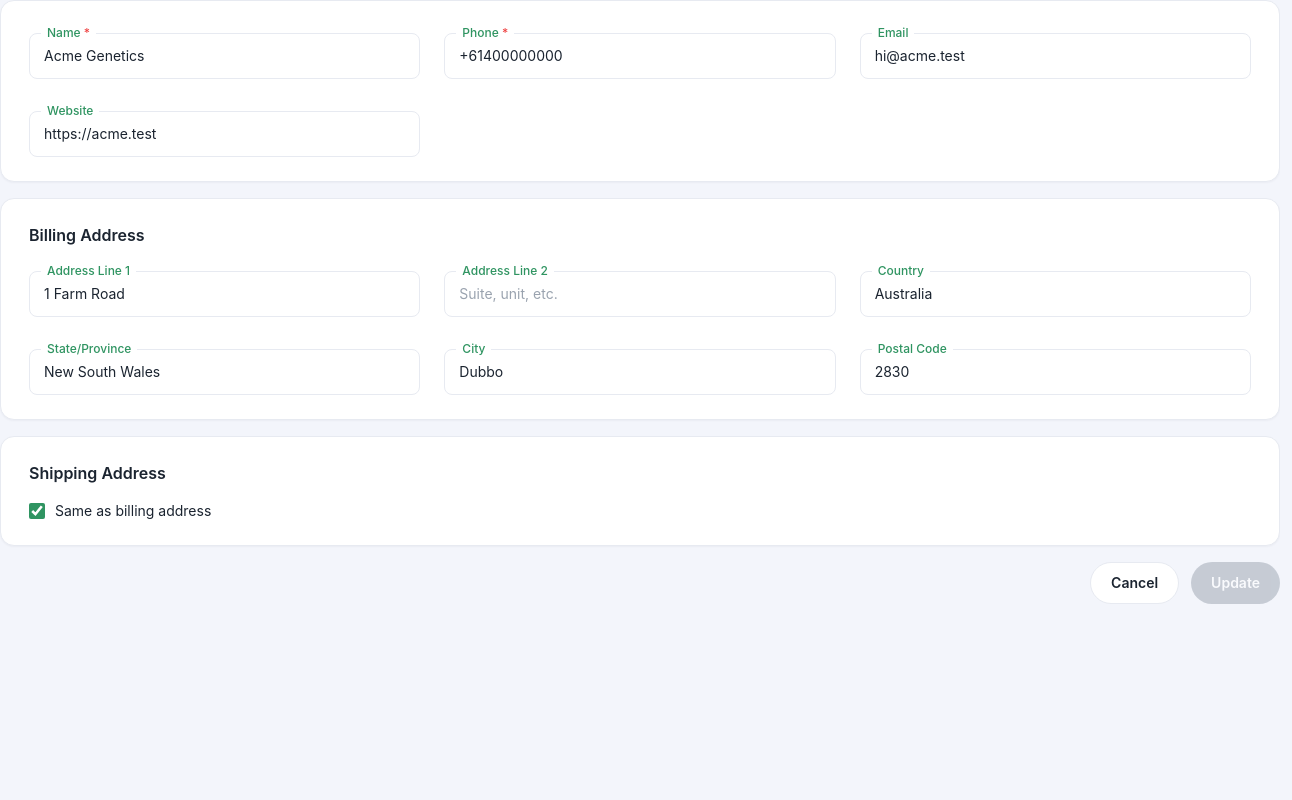
Test: CompanyForm (spec 2.8.1) › keeps the Update button disabled until something changes (spec 2.3.1.2)
The width and height of the screenshot is (1292, 800).
Check: the button "Update" is disabled, box [1191,562,1280,604]
Type " Pty Ltd" into the field labelled "Name *".
click(225, 56); type(" Pty Ltd")  # box [29,33,420,79]
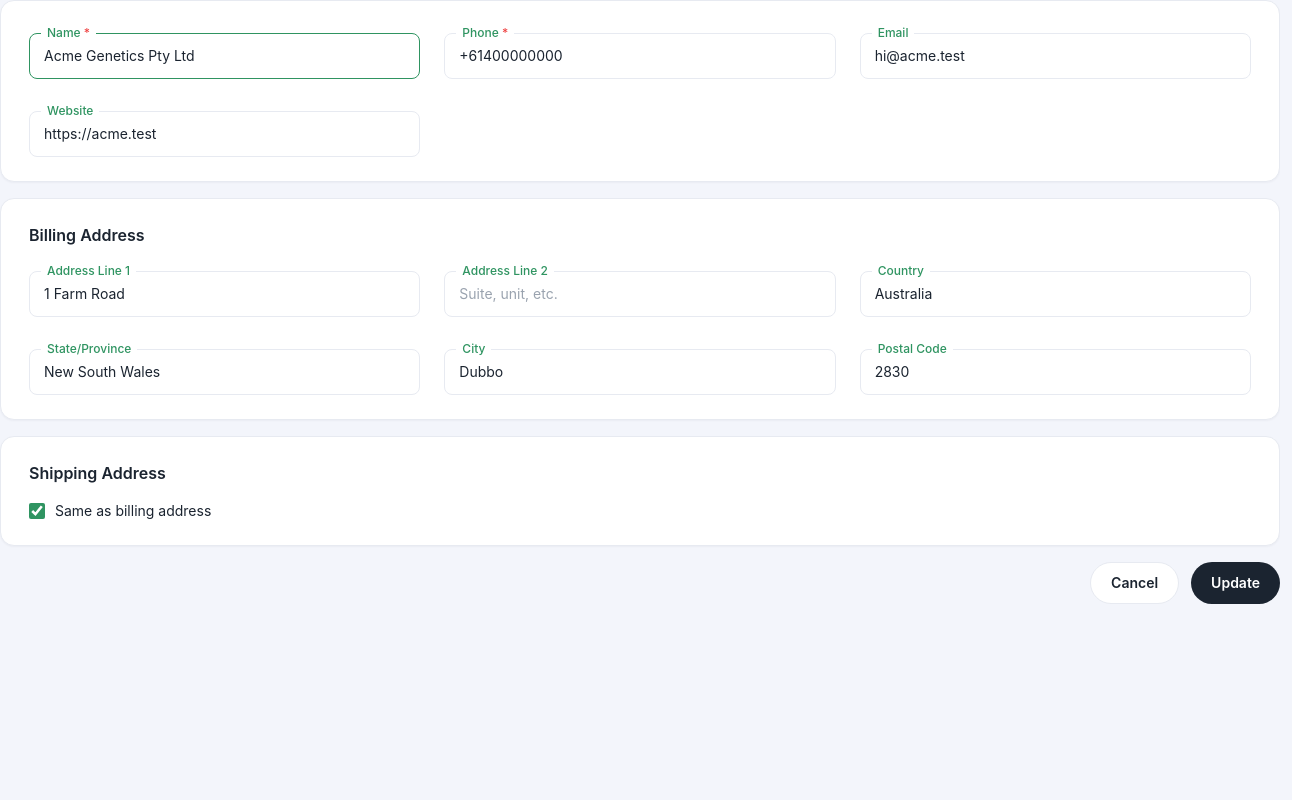
Check: the button "Update" is enabled, box [1191,562,1280,604]
